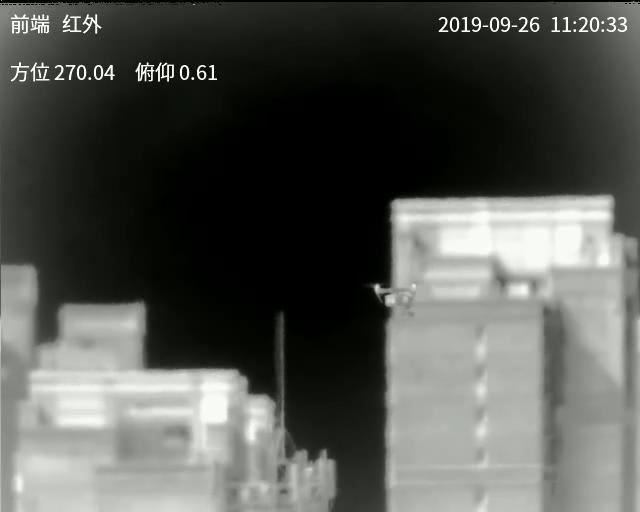uav: (369, 278, 418, 319)
